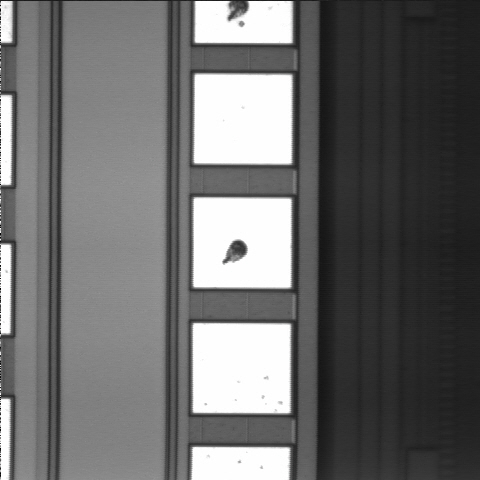pad: (194, 74, 292, 164), (193, 198, 291, 288), (193, 323, 291, 413)
